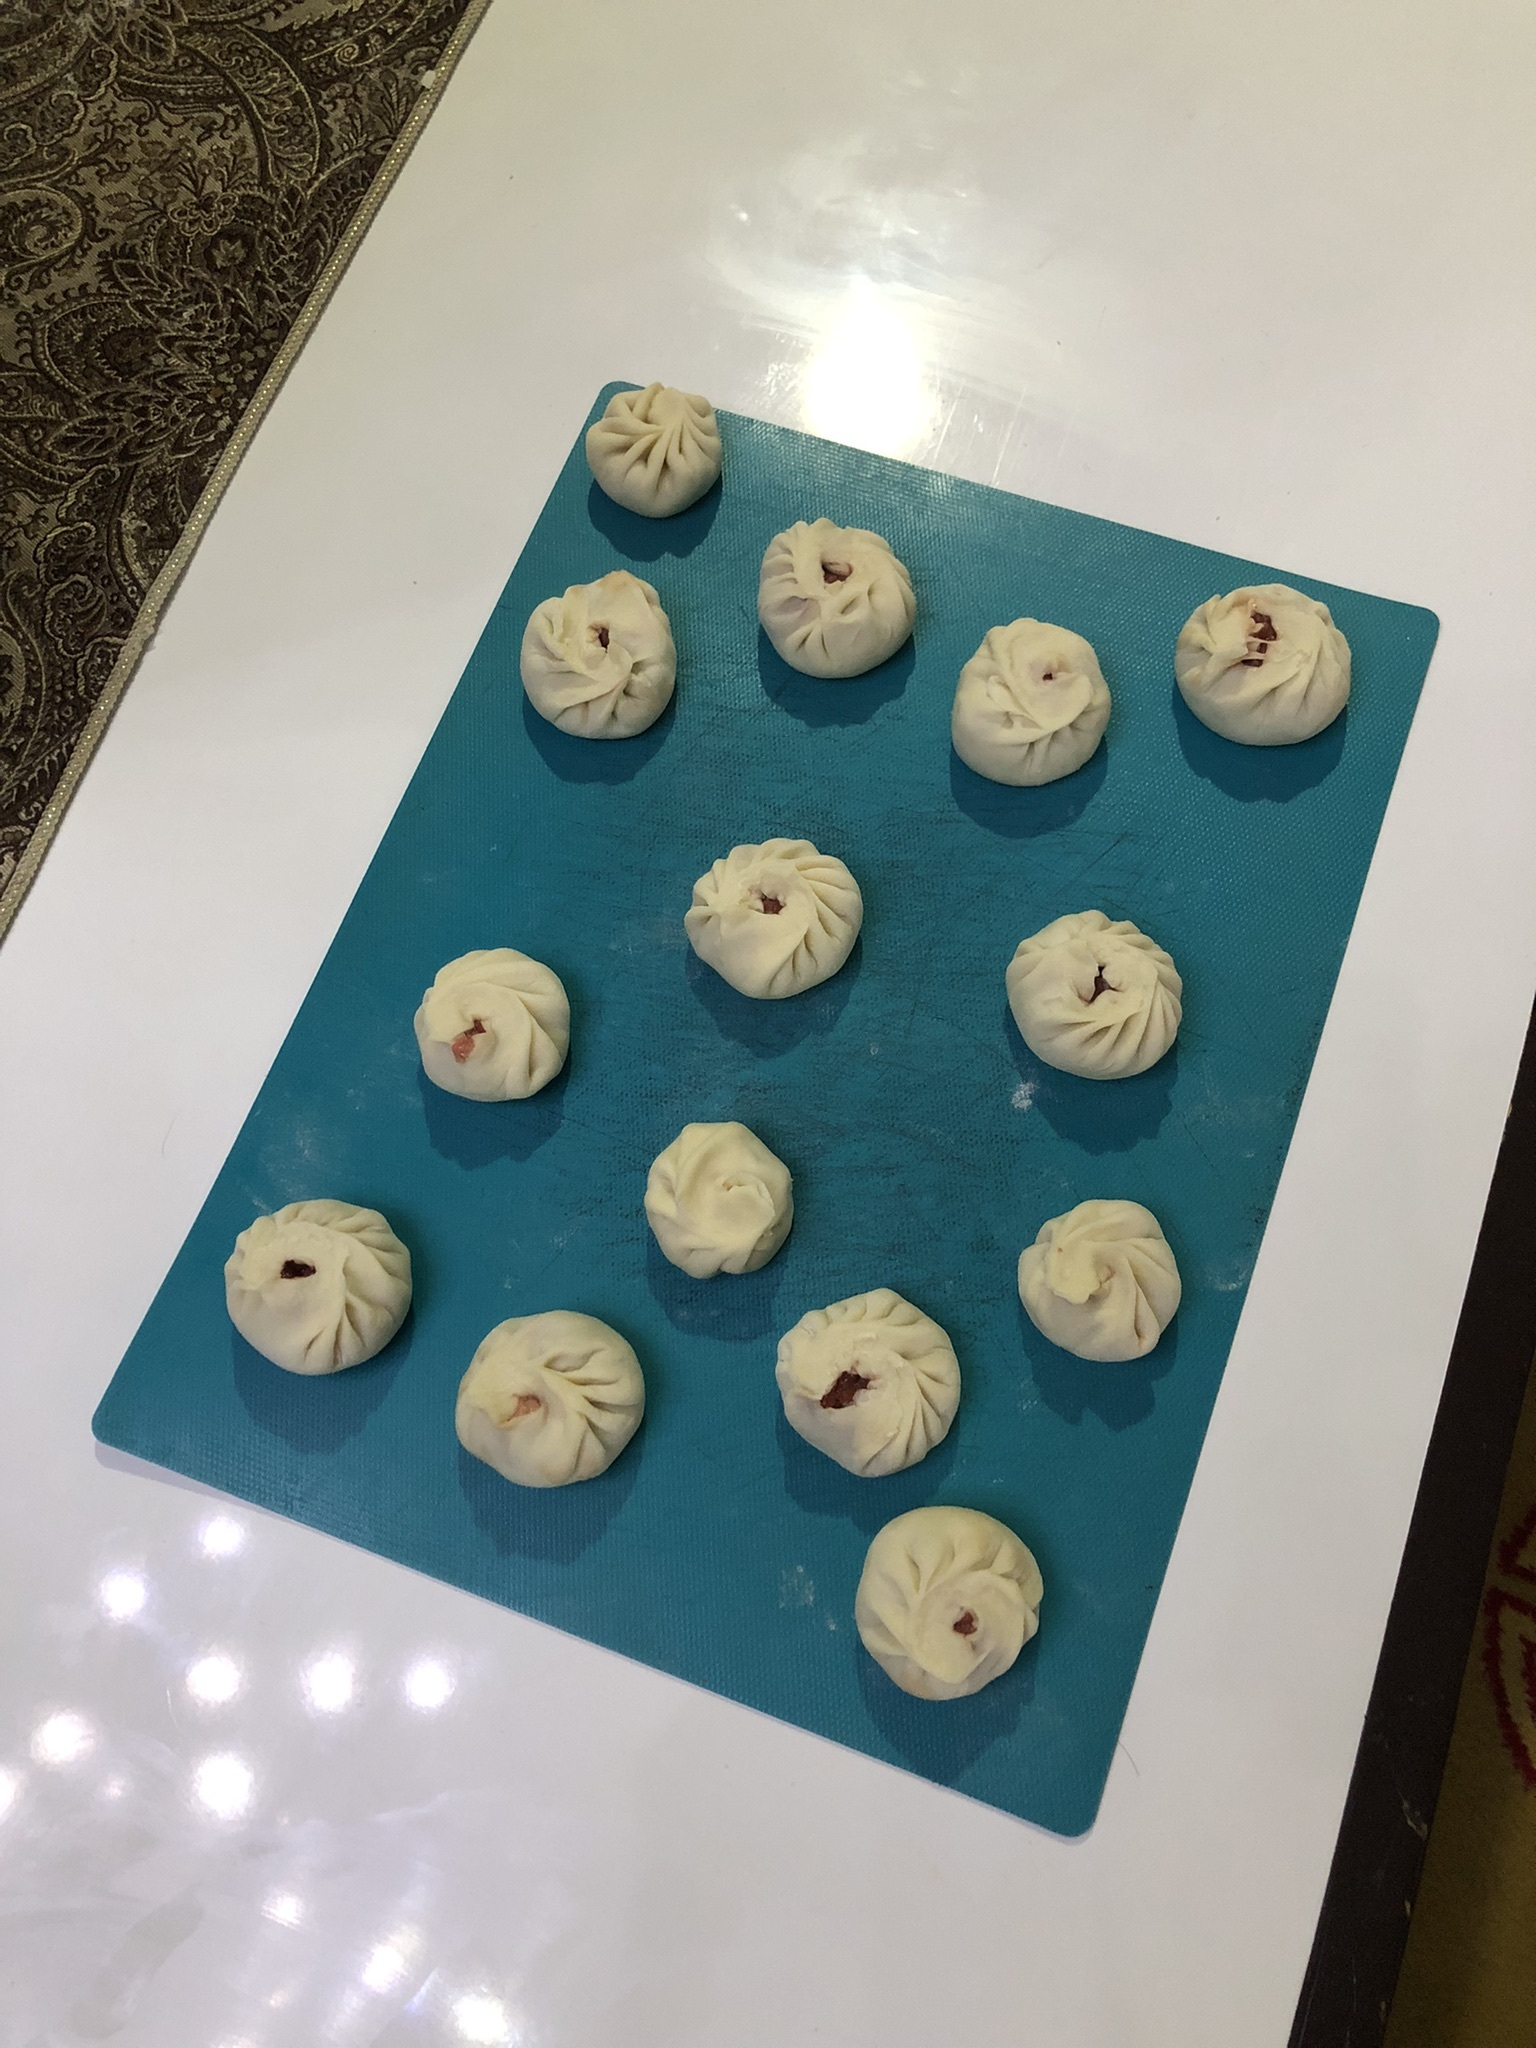buuz: (845, 1498, 1054, 1709), (766, 1280, 971, 1484), (444, 1303, 655, 1496), (219, 1188, 423, 1385), (992, 898, 1191, 1092), (1160, 577, 1371, 758), (679, 829, 874, 1013), (1004, 1192, 1192, 1371), (939, 610, 1120, 795), (510, 563, 686, 750), (749, 510, 921, 689), (407, 939, 579, 1111), (637, 1109, 808, 1282), (576, 377, 729, 526)
